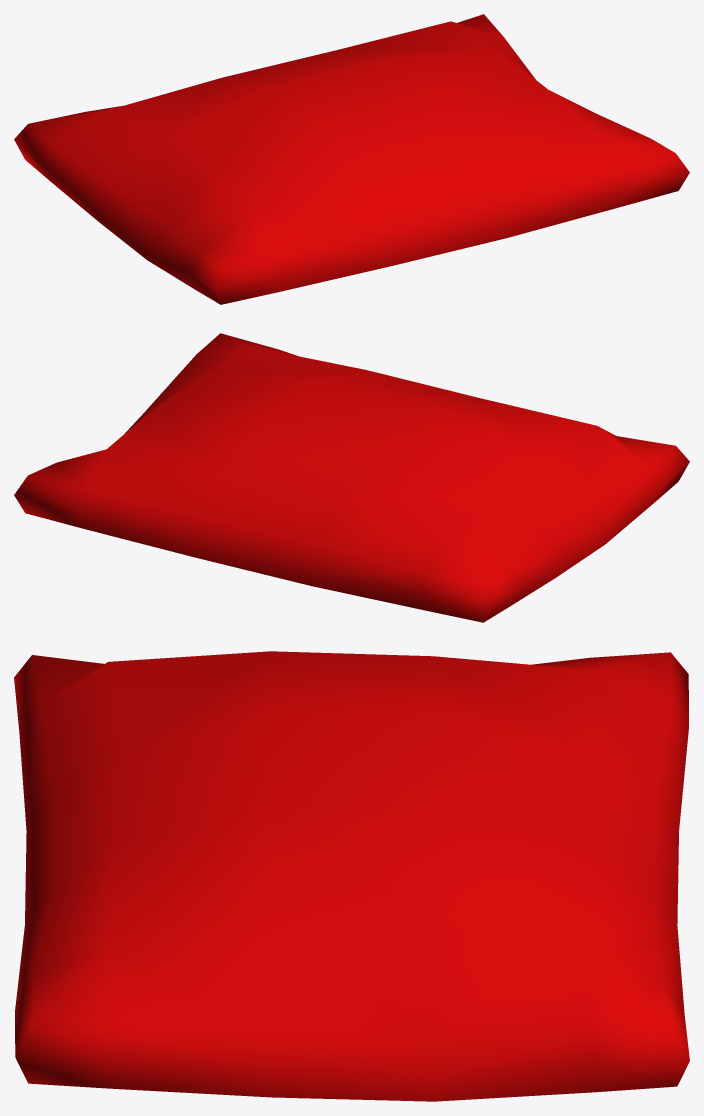
Rendered from Attic_Pillow_02_LP.glb.
The picture shows the model from 3 angles, top to bottom: view 1: azimuth 30°, elevation 25°; view 2: azimuth 150°, elevation 25°; view 3: azimuth 270°, elevation 25°; orthographic projection. The views are drawn at different scales.
Visible parts, largest first — view 1: Attic_Pillow_02_LP; view 2: Attic_Pillow_02_LP; view 3: Attic_Pillow_02_LP.
Boxes of the visible parts, x1,y1,x2,y2 form: Attic_Pillow_02_LP: (14, 14, 689, 304); Attic_Pillow_02_LP: (14, 333, 689, 622); Attic_Pillow_02_LP: (14, 651, 689, 1101).
Bounding box in the file's own units: 1.05 × 0.2129 × 0.7812.
